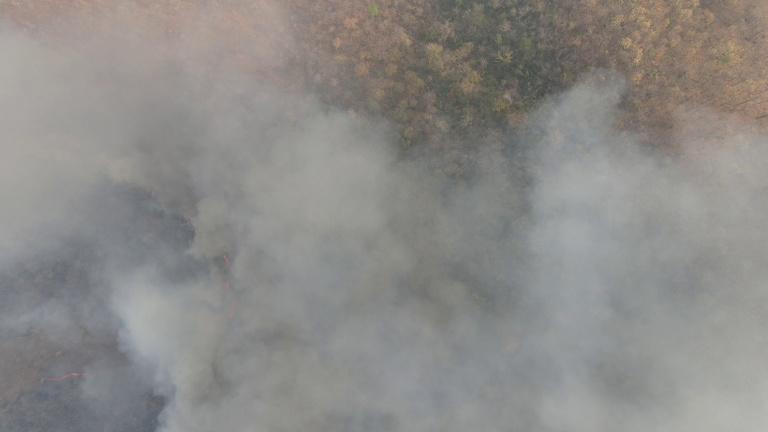fire: (155, 191, 199, 233), (30, 365, 92, 394), (216, 241, 245, 293)
smoke: (73, 58, 768, 432)
